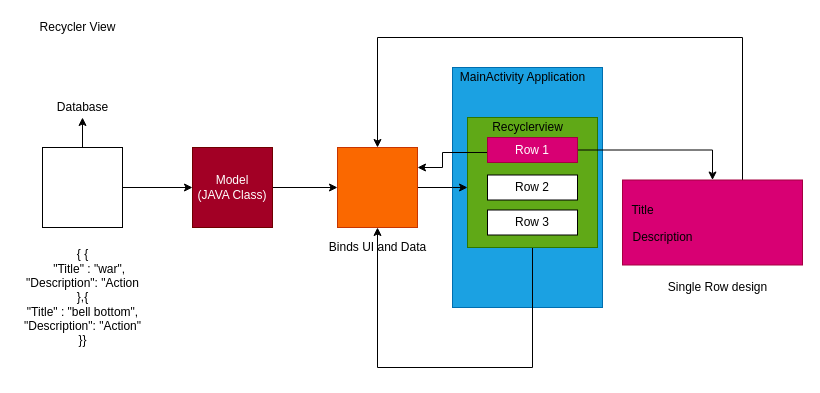
This 820x393 diagram has some shape labels left out. Here are the shapes that lost their labels. From the top down, the centre of each, then its label:
point 82,187: Data
point 377,187: Adapter
